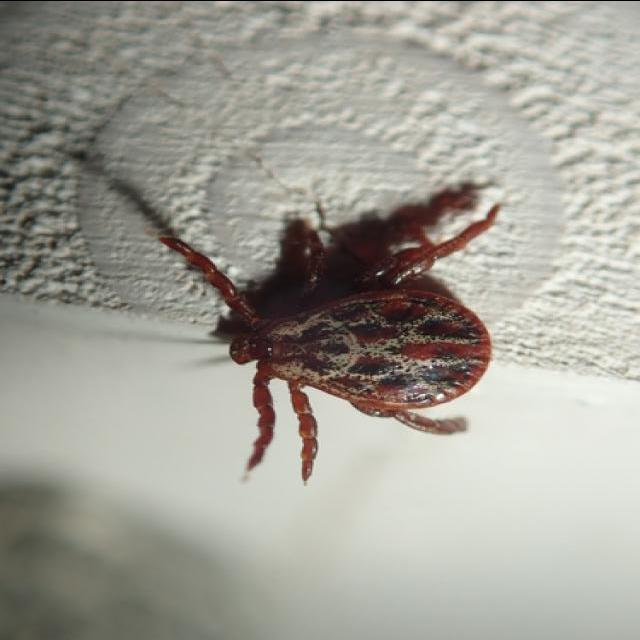Dermacentor Reticulatus-M: (157, 205, 498, 483)
